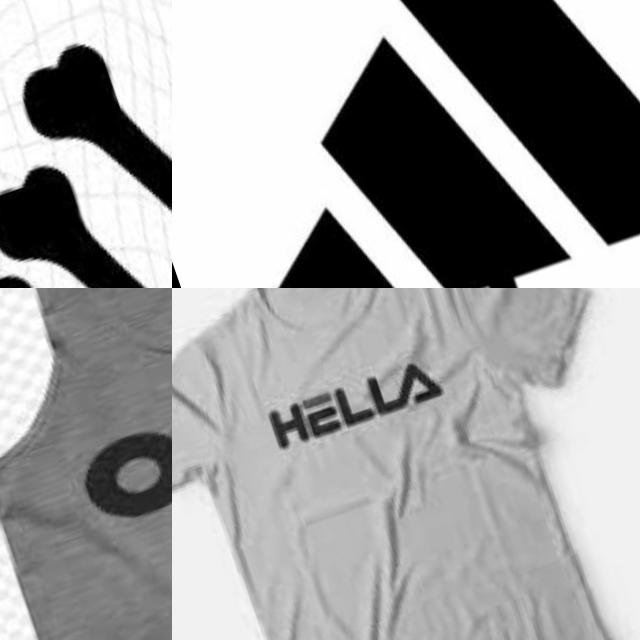ADIDAS_fake: (216, 171, 640, 288), (0, 0, 172, 288)
ADIDAS_original: (172, 0, 640, 288)
FILA_fake: (250, 338, 468, 481), (56, 315, 172, 543)
